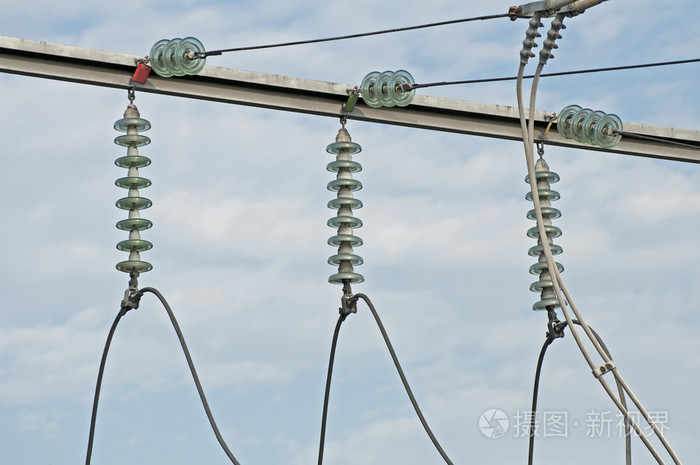insulator: (111, 114, 157, 277), (526, 171, 570, 314), (326, 137, 365, 288), (555, 104, 623, 148), (148, 36, 210, 77), (359, 68, 413, 109)
